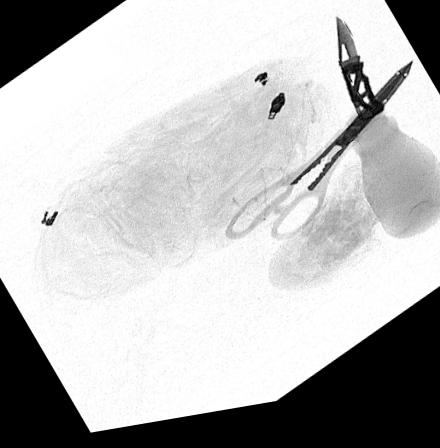Knife: (335, 25, 383, 134)
Scissors: (224, 73, 411, 252)
